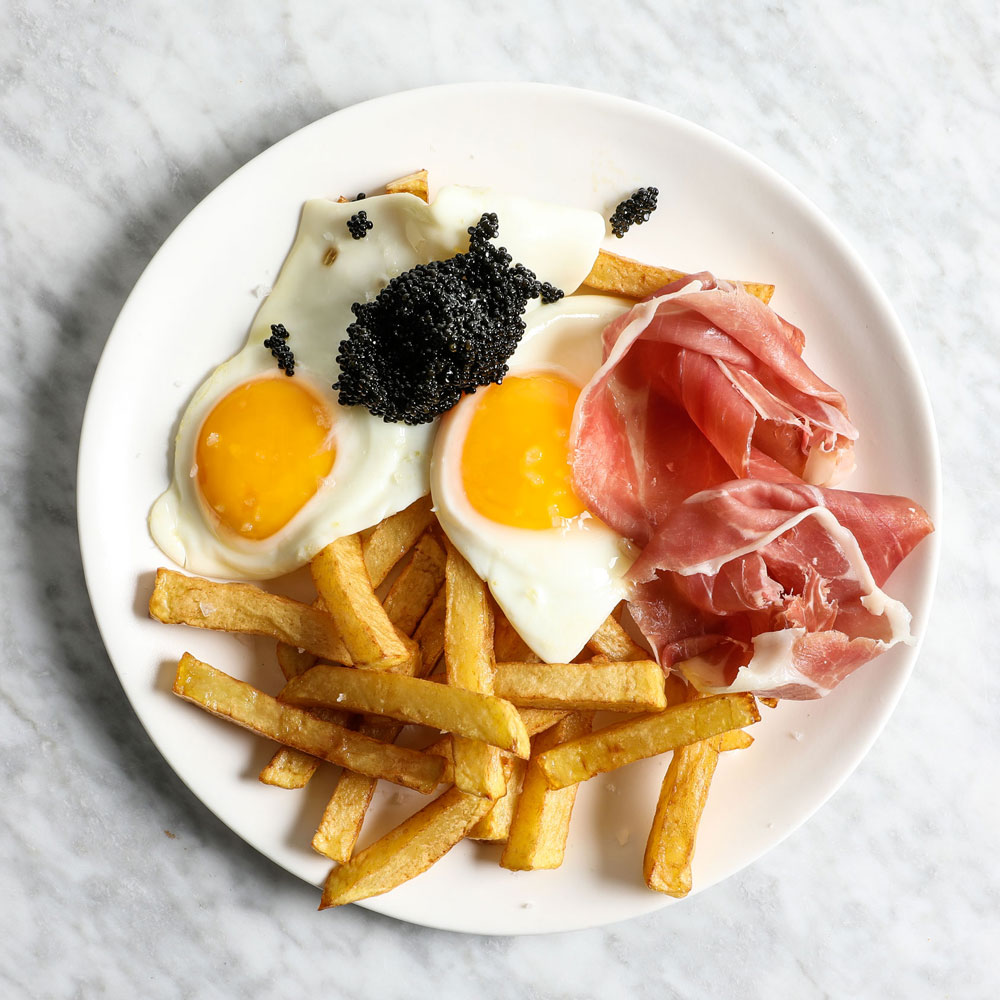fried egg: (447, 385, 597, 605), (217, 330, 332, 567)
